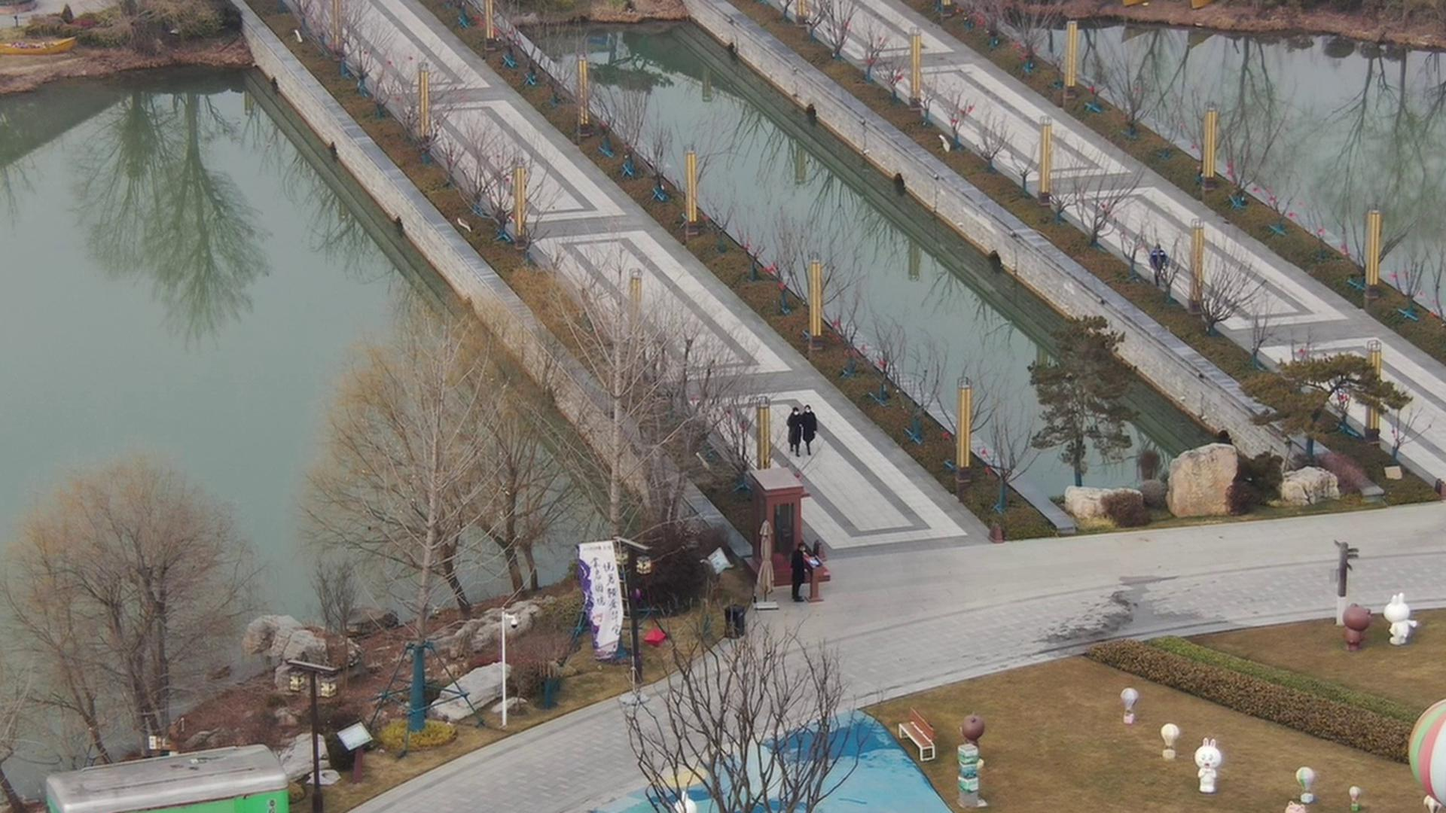class_2: (782, 400, 819, 470)
human: (782, 538, 807, 607)
